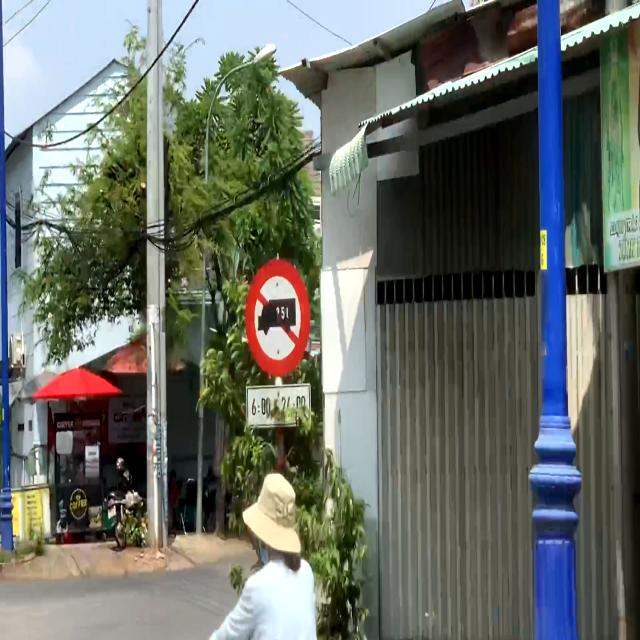P.106b: (246, 259, 310, 374)
